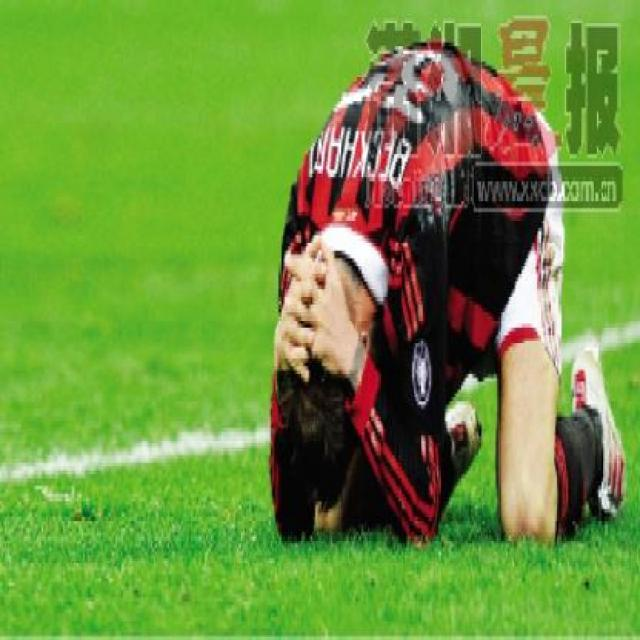fall: (246, 7, 639, 559)
